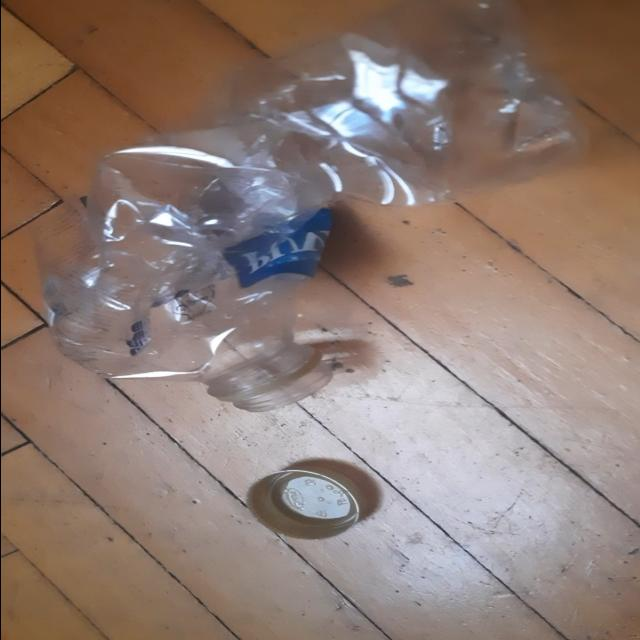Plastic: (41, 4, 586, 412)
